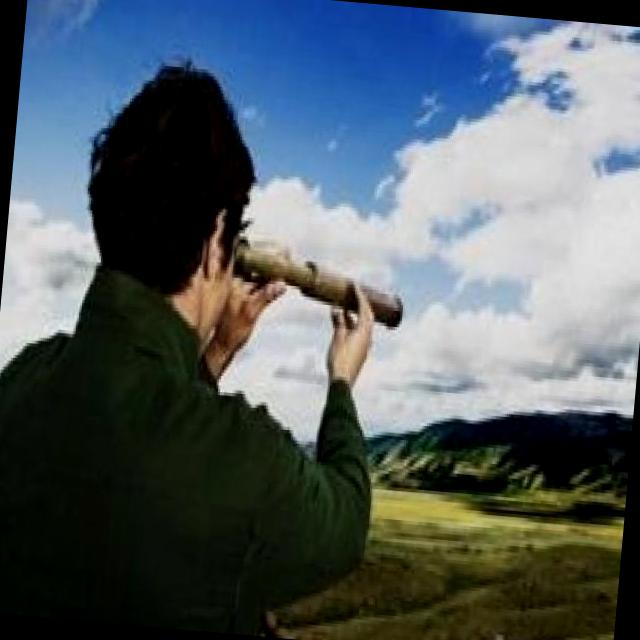no_vest: (0, 271, 365, 640)
